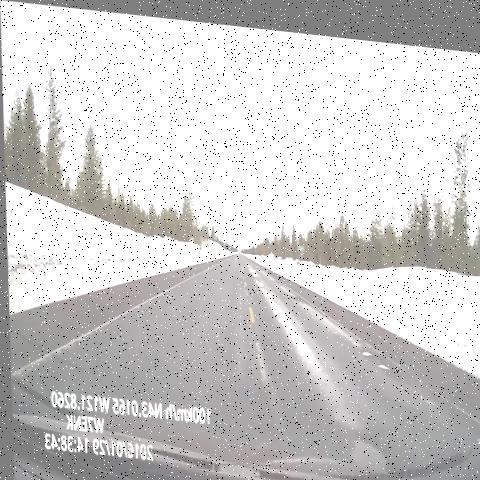pothole: (326, 406, 397, 480), (349, 324, 399, 371), (242, 259, 269, 290)
